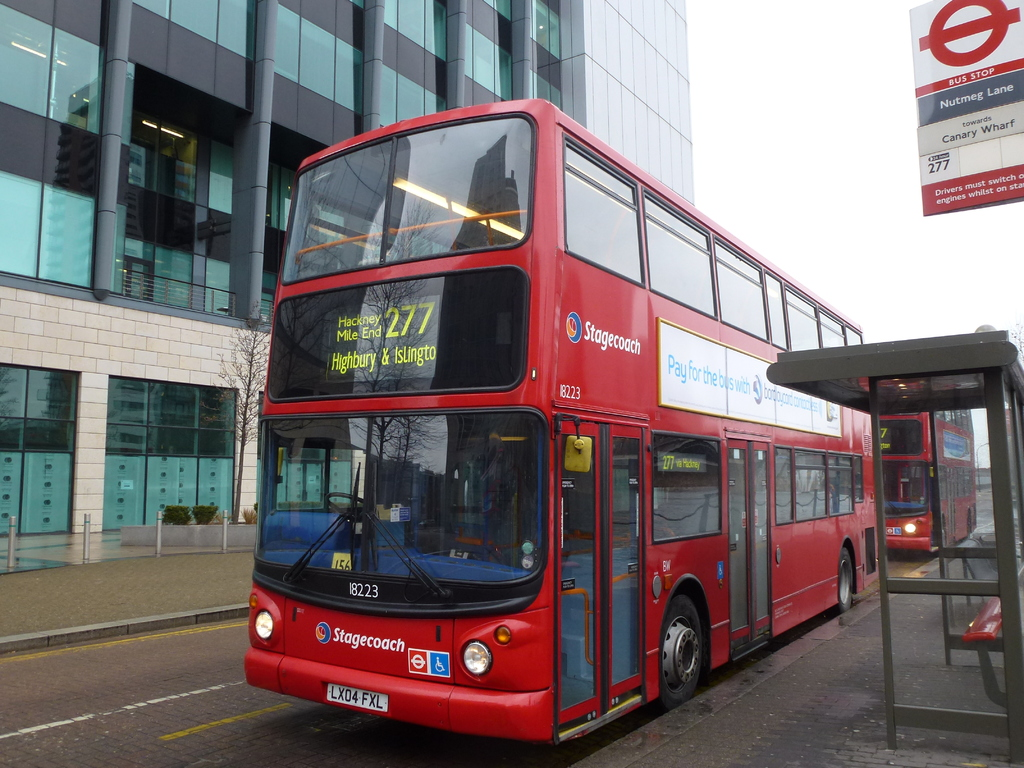Bus: (244, 99, 880, 753), (865, 375, 981, 552)
